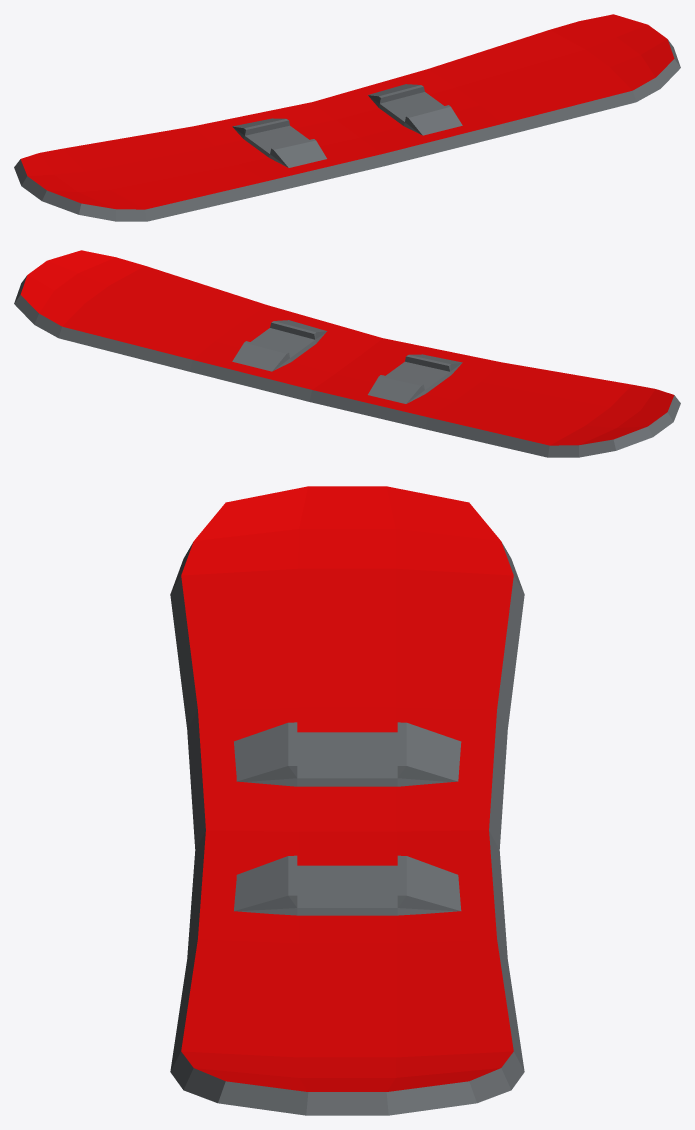
Rendered from LightWoodMechSmallSnowboard1.fbx.
3 views of the same model, one above another, from view 1: azimuth 30°, elevation 25°; view 2: azimuth 150°, elevation 25°; view 3: azimuth 270°, elevation 25° (orthographic). The views are drawn at different scales.
Parts seen in each view (by area): view 1: LightWoodMechSmallSnowboard1; view 2: LightWoodMechSmallSnowboard1; view 3: LightWoodMechSmallSnowboard1.
Part boxes in pixels (box(x1,y1,x2,y2)): LightWoodMechSmallSnowboard1: box(14, 14, 680, 221); LightWoodMechSmallSnowboard1: box(14, 250, 680, 457); LightWoodMechSmallSnowboard1: box(170, 486, 524, 1115).
Bounding box in the file's own units: 257 × 12.97 × 62.46.
